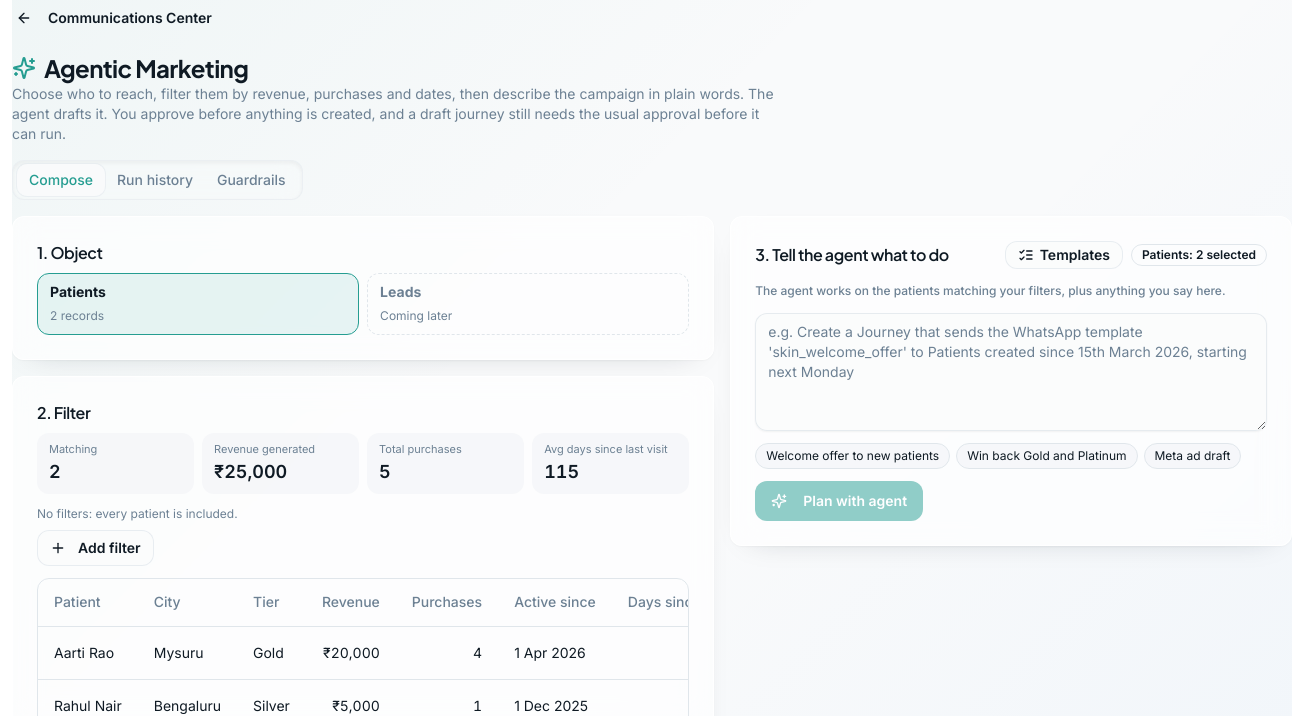
Test: AgenticMarketing › disables approval for a blocked plan and shows a question as plain text
The image size is (1292, 716).
expect the text "Aarti Rao" is shown: met, box [38,626,138,680]
Step 1. Replace the text in the text box labelled "works on the patients matching" with "Send skin_summer_peel to patients next Monday" → (1011, 372), box [755,313,1267,431]
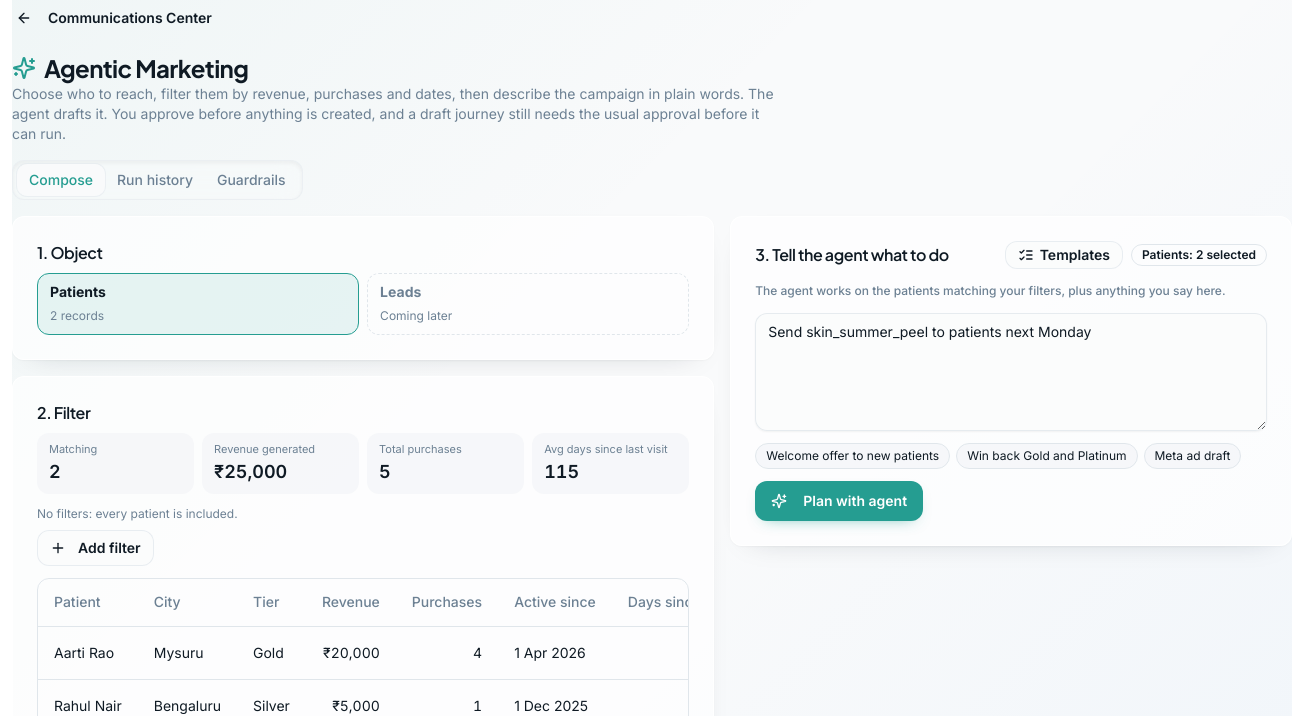
Step 2. Click the button "Plan with agent" → (839, 501), box [755,481,923,521]
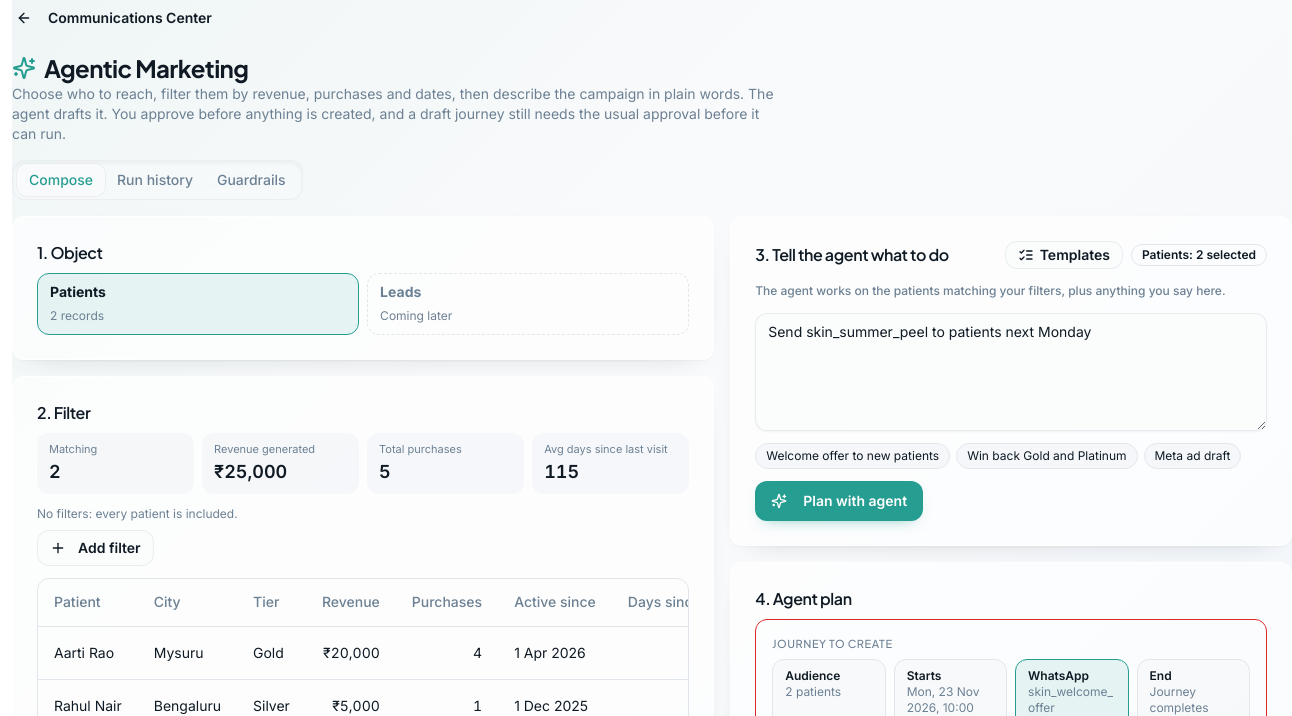
Step 3. Click the button "Plan with agent" → (839, 501), box [755,481,923,521]
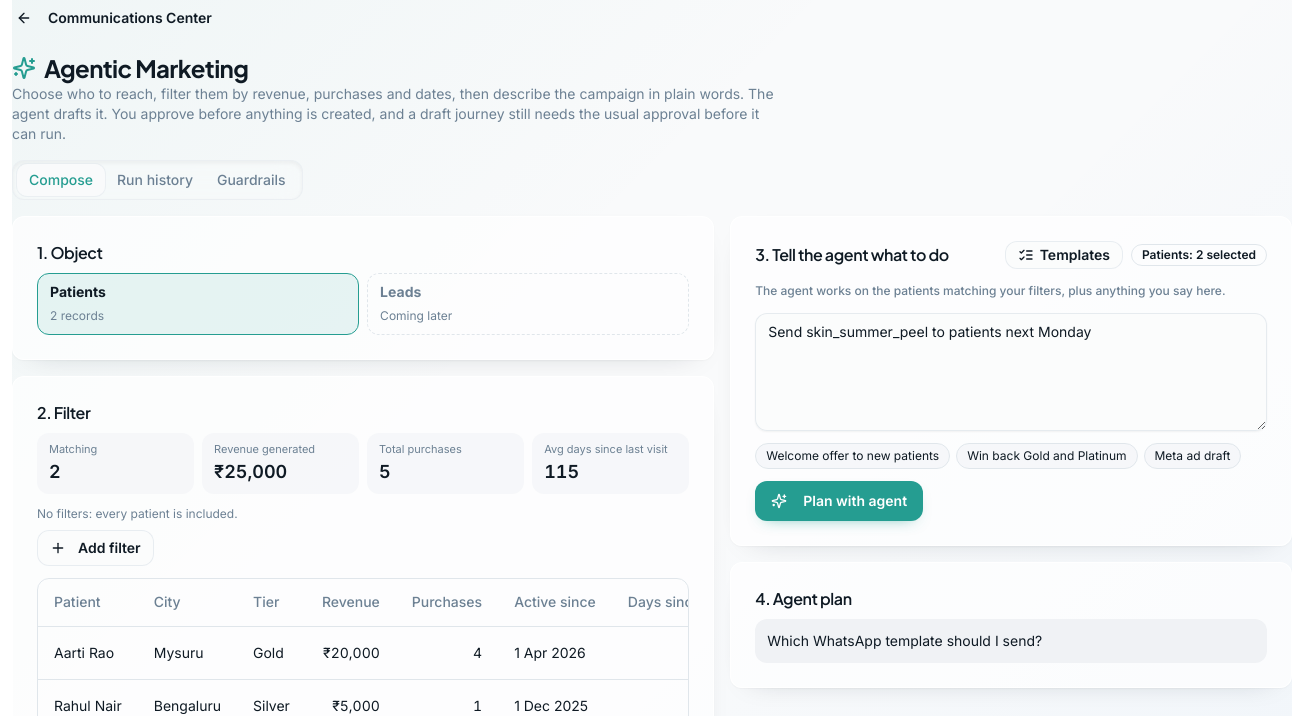
expect the text "Which WhatsApp template should I send?" is shown: met, box [755,619,1267,663]
